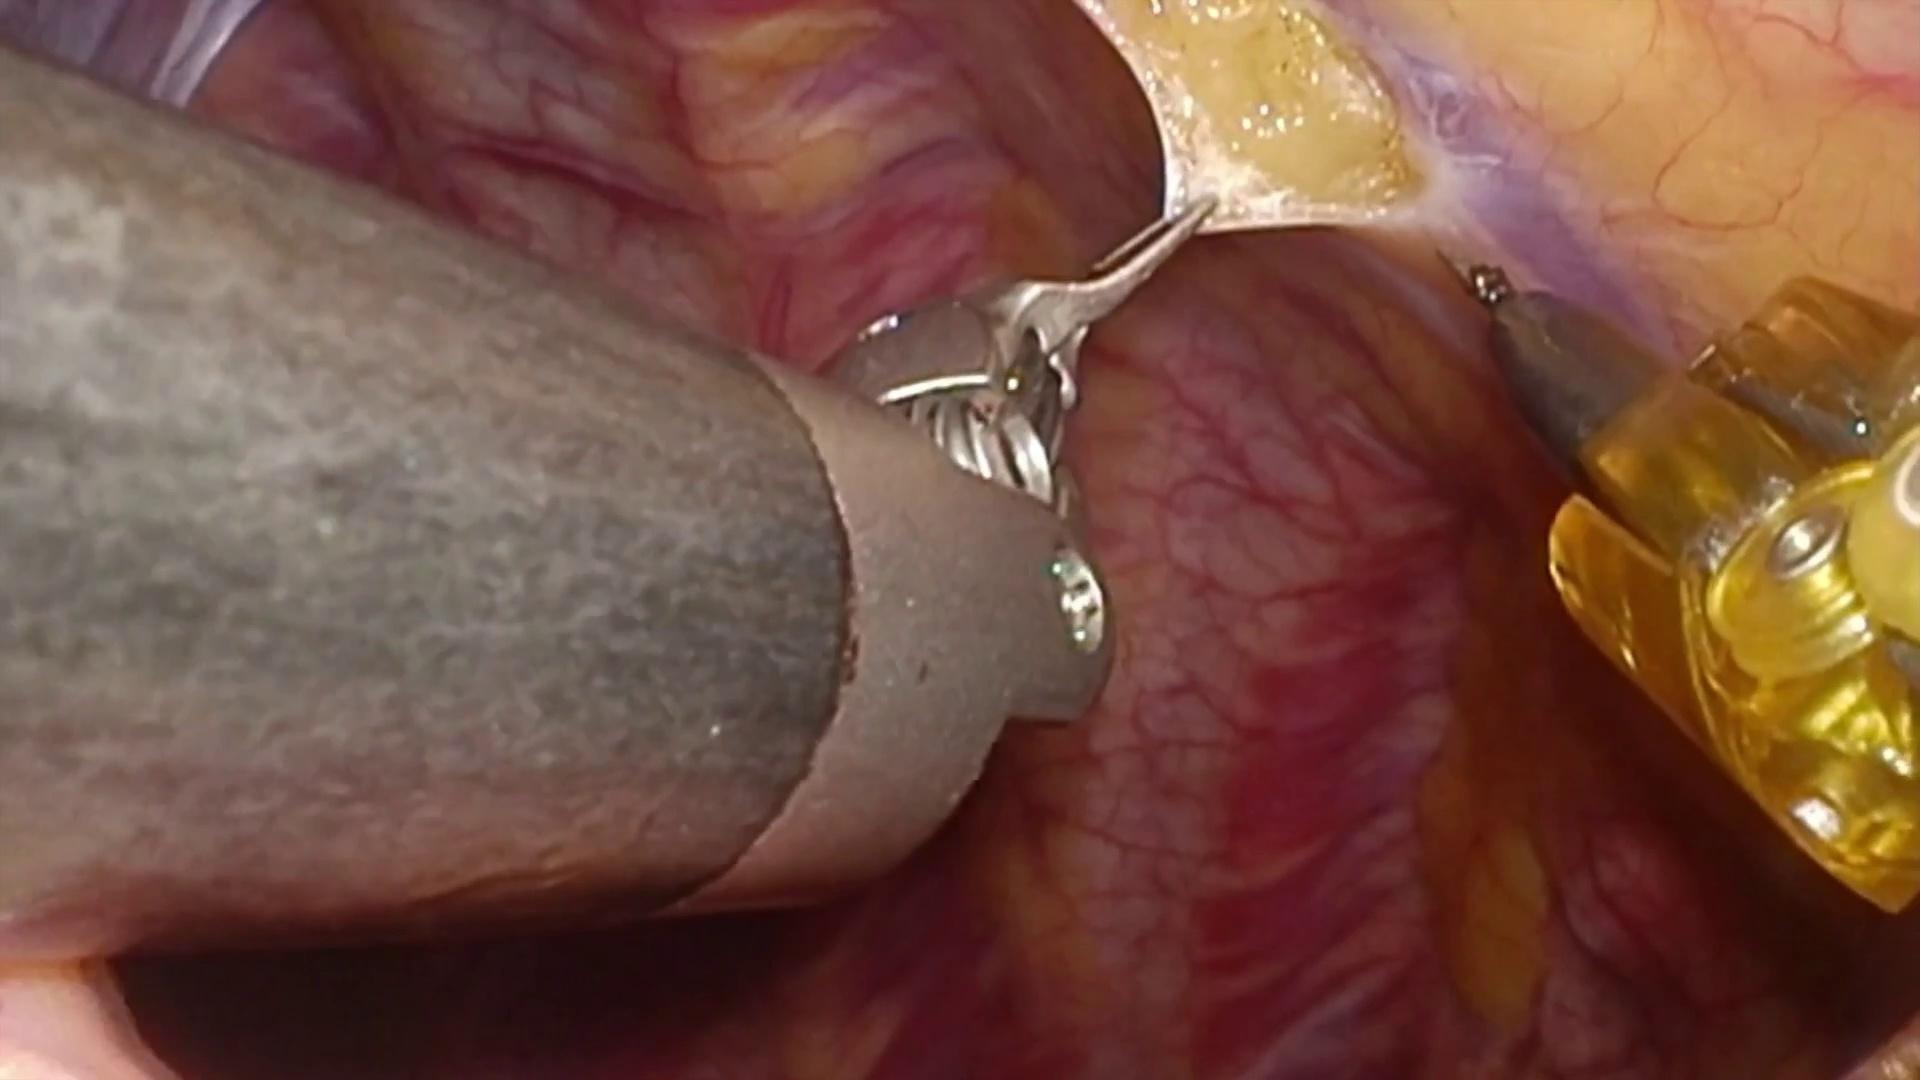Cautery_Spatula: (1433, 228, 1675, 452), (1436, 228, 1522, 318)
Debakey: (986, 193, 1222, 404)
